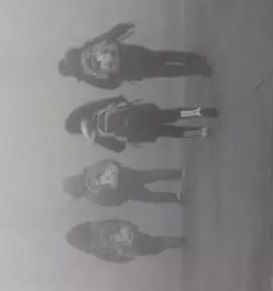person: (57, 22, 212, 90), (63, 96, 219, 154), (63, 159, 187, 207), (65, 217, 189, 265)
